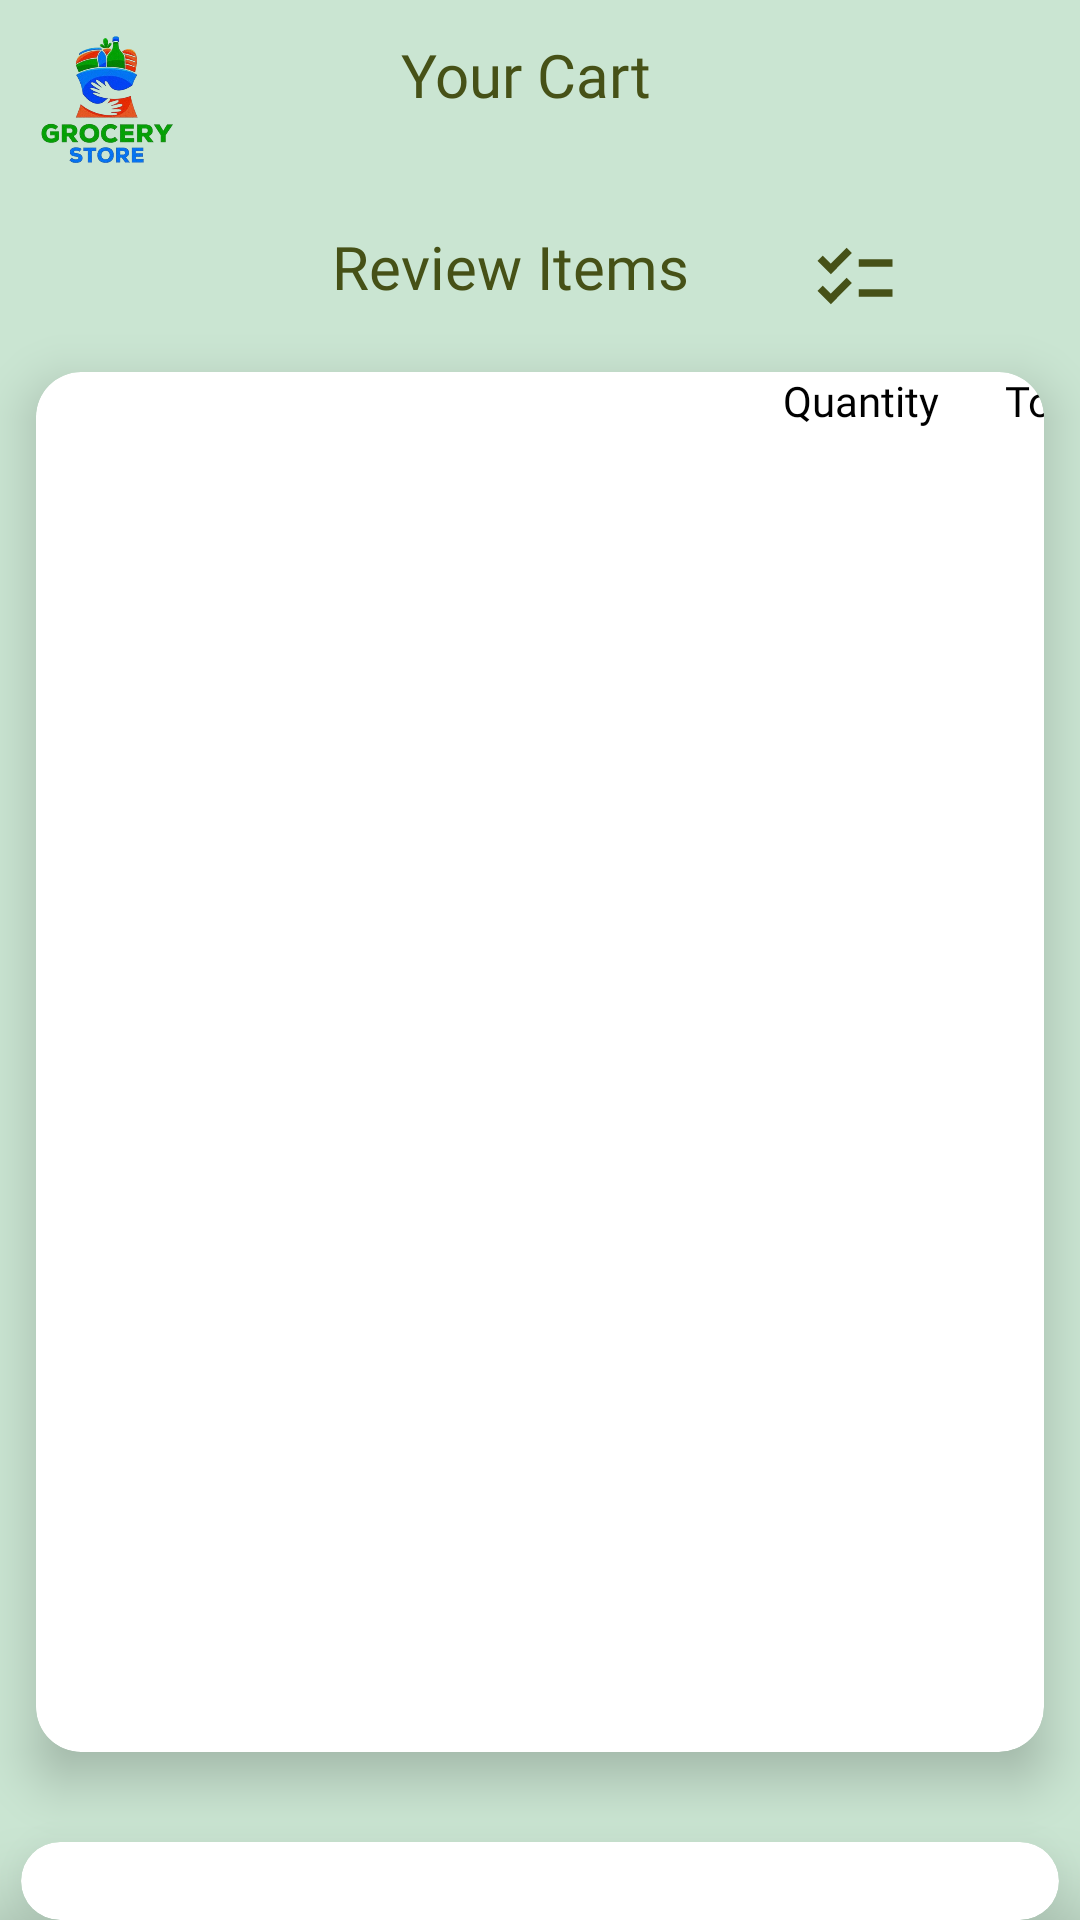

Named icons in this screenshot (1080w x 1920h) and their centers, point (x, y):
checklist: point (855, 276)
